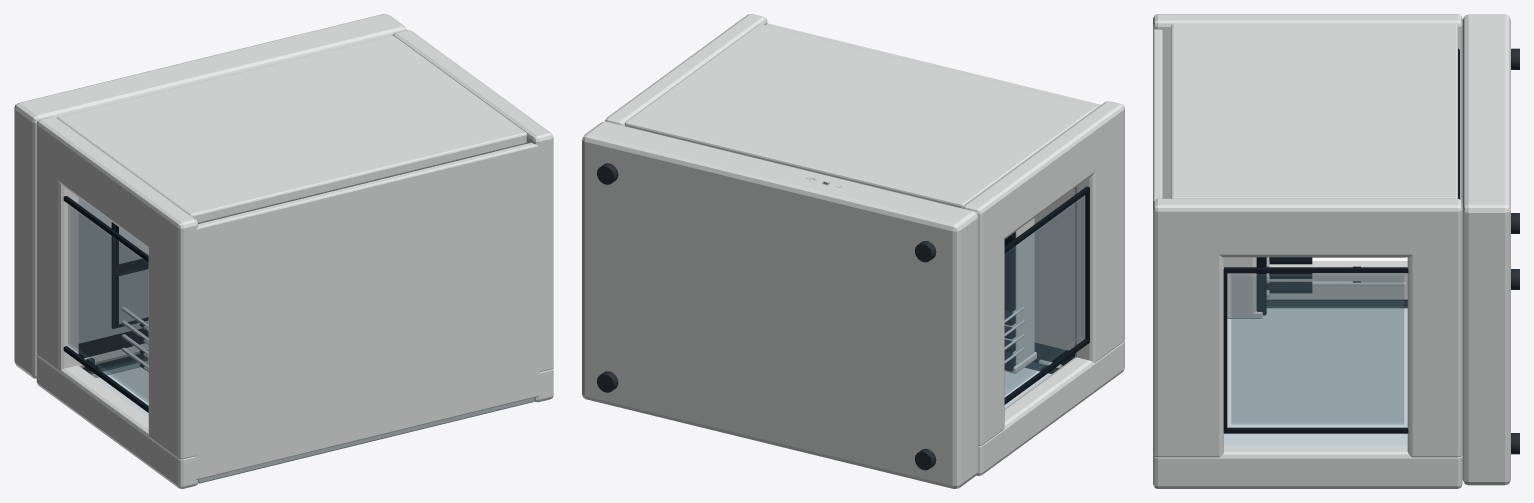
Rendered from hamilton_nimbus.glb.
3 views of the same model, side by side, from view 1: azimuth 30°, elevation 25°; view 2: azimuth 150°, elevation 25°; view 3: azimuth 270°, elevation 25° (orthographic). The views are drawn at different scales.
Parts seen in each view (by area): view 1: Enclosure roof, Clear front locking cover, Front intake fin, Black recessed work deck, Independent channel Y guide; view 2: Enclosure roof, Clear front locking cover, Black recessed work deck, Isolation foot, Independent channel Y guide; view 3: Enclosure roof, Clear front locking cover, Black recessed work deck, Isolation foot, Independent channel Y guide.
Part boxes in pixels (box(x1,y1,x2,y2)): Enclosure roof: box(14, 14, 553, 488); Clear front locking cover: box(68, 204, 148, 416); Front intake fin: box(78, 198, 534, 483); Black recessed work deck: box(63, 150, 498, 412); Independent channel Y guide: box(121, 307, 148, 371); Enclosure roof: box(582, 14, 1124, 488); Clear front locking cover: box(1004, 196, 1083, 407); Black recessed work deck: box(807, 178, 1089, 404); Isolation foot: box(597, 163, 936, 470); Independent channel Y guide: box(1004, 230, 1024, 365); Enclosure roof: box(1153, 14, 1510, 488); Clear front locking cover: box(1224, 274, 1407, 445); Black recessed work deck: box(1223, 48, 1459, 433); Isolation foot: box(1511, 48, 1519, 454); Independent channel Y guide: box(1270, 257, 1405, 286).
Size of the model in its own units: 1.05 by 0.709 by 0.831.
